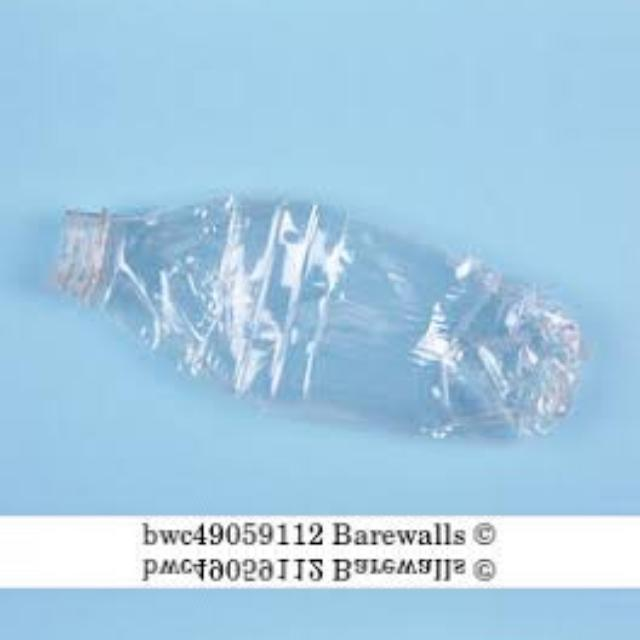Plastic: (36, 147, 608, 475), (36, 0, 608, 29), (36, 627, 608, 640)
